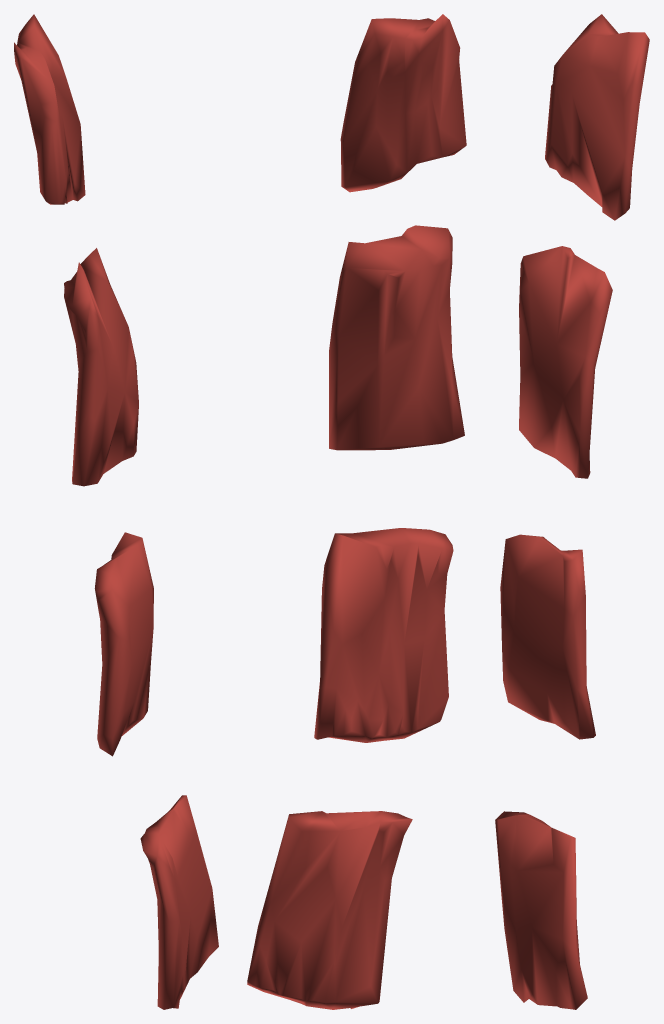
File: musculos-ventral-parts-of-lateral-intertransversarii-lumborum-muscles-l.glb
3 renders of one model, left to right at view 1: azimuth 30°, elevation 25°; view 2: azimuth 150°, elevation 25°; view 3: azimuth 270°, elevation 25°, orthographic. The views are drawn at different scales.
Visible parts, largest first — view 1: Ventral parts of lateral intertransversarii lumborum muscles; view 2: Ventral parts of lateral intertransversarii lumborum muscles; view 3: Ventral parts of lateral intertransversarii lumborum muscles.
Boxes of the visible parts, left/top/right/bottom form: Ventral parts of lateral intertransversarii lumborum muscles: left=14, top=14, right=218, bottom=1009; Ventral parts of lateral intertransversarii lumborum muscles: left=247, top=14, right=466, bottom=1009; Ventral parts of lateral intertransversarii lumborum muscles: left=495, top=14, right=649, bottom=1009.
Bounding box in the file's own units: 0.0241 × 0.1164 × 0.0175.
